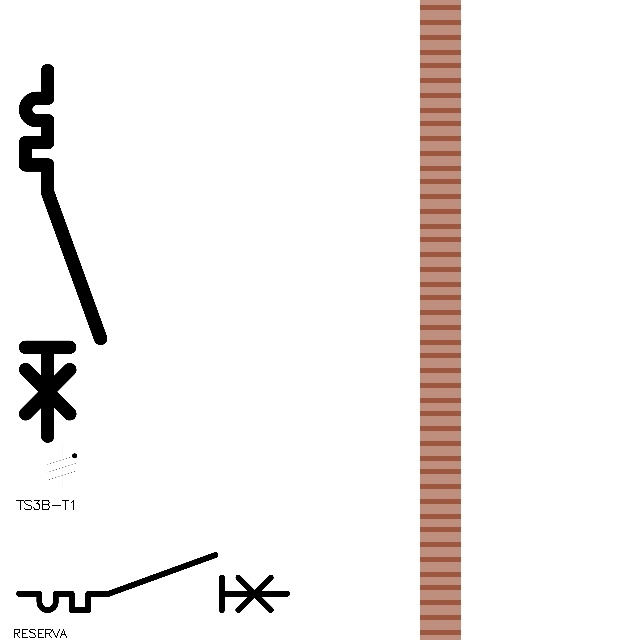interruptor_termomagnetico: (16, 61, 110, 446), (12, 548, 294, 617)
